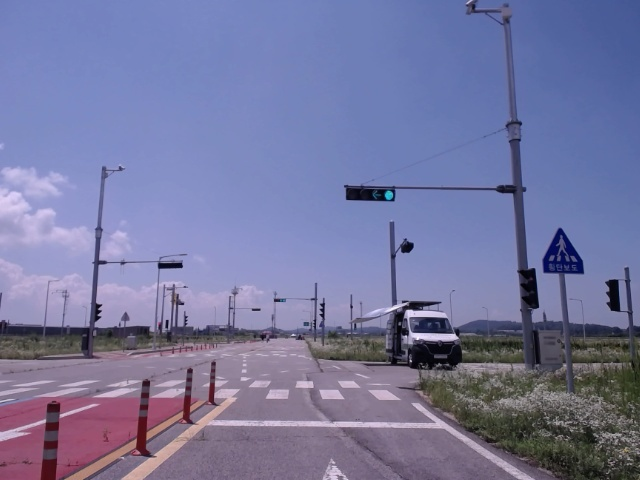all_green_4: (344, 186, 396, 203)
